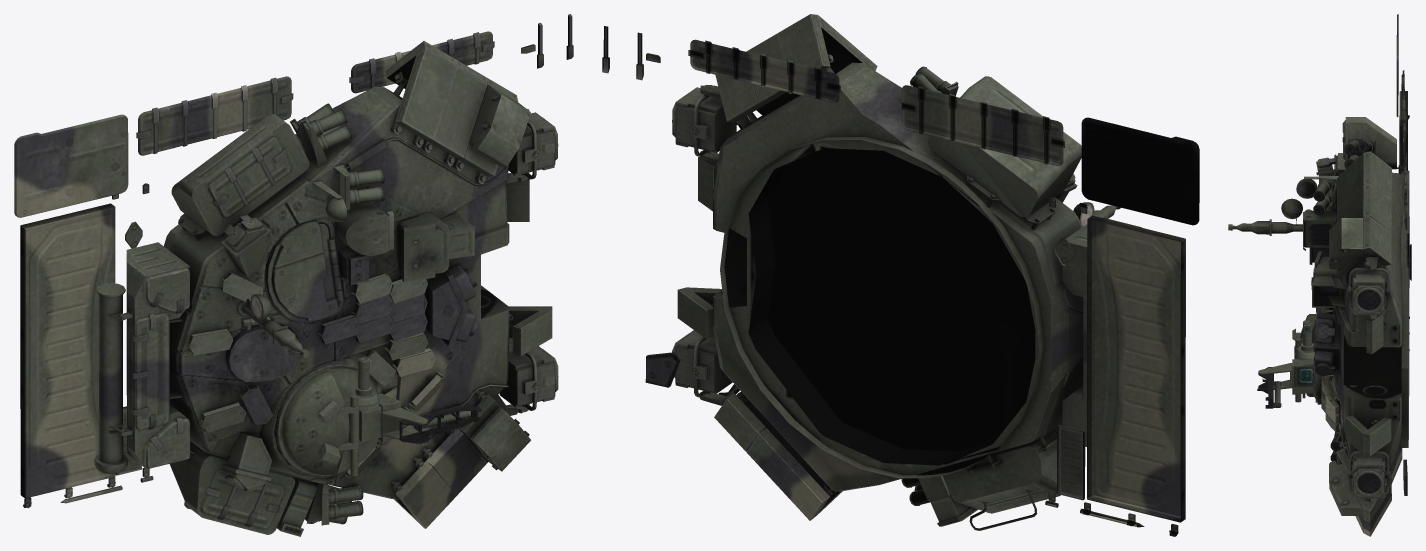
The model's file is turret.gltf.
3 renders of one model, left to right at view 1: azimuth 30°, elevation 25°; view 2: azimuth 150°, elevation 25°; view 3: azimuth 270°, elevation 25°, orthographic. The views are drawn at different scales.
Visible parts, largest first — view 1: turret; view 2: turret; view 3: turret.
Part boxes in pixels (box(x1,y1,x2,y2)): turret: box(14, 14, 573, 536); turret: box(602, 14, 1199, 536); turret: box(1228, 14, 1411, 536).
Bounding box in the file's own units: 4.34 × 3.57 × 1.54.
Materials: 1 (1 with a texture image).
